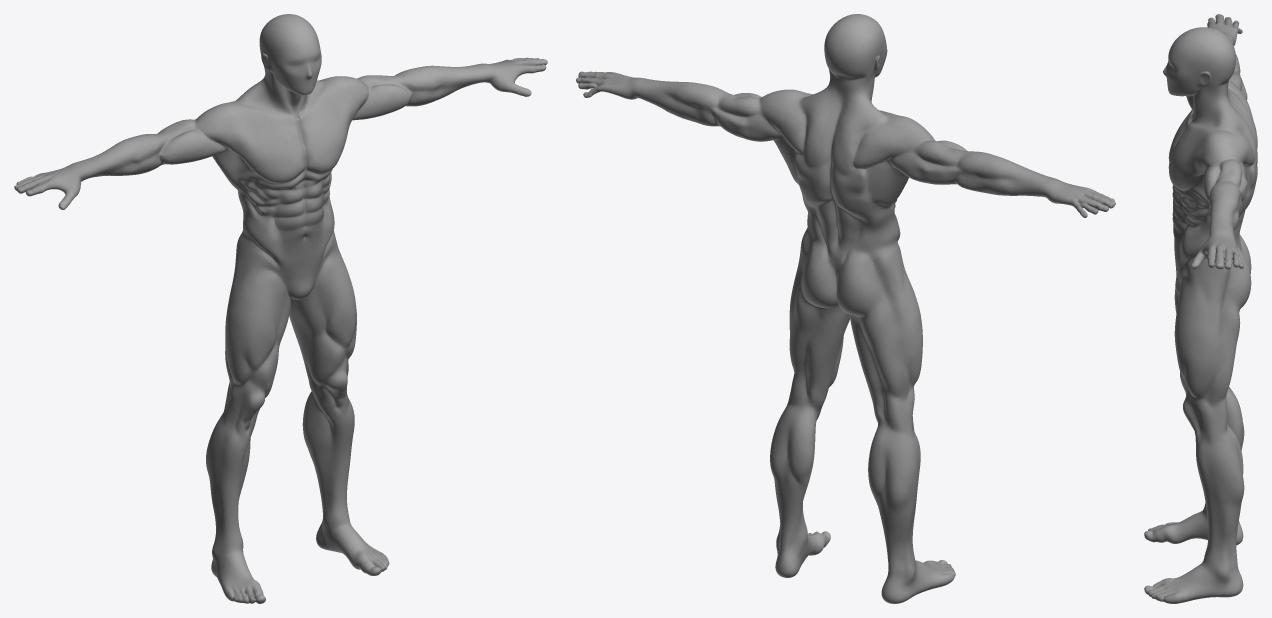
Rendered from sample_2026-11-19T201911.614.glb.
3 views of the same model, side by side, from view 1: azimuth 30°, elevation 25°; view 2: azimuth 150°, elevation 25°; view 3: azimuth 270°, elevation 25° (orthographic). The views are drawn at different scales.
Parts seen in each view (by area): view 1: world; view 2: world; view 3: world.
Part boxes in pixels (left/top/right/bottom): world: left=14, top=14, right=547, bottom=603; world: left=576, top=14, right=1115, bottom=603; world: left=1144, top=14, right=1257, bottom=603.
Size of the model in its own units: 1 by 1 by 0.1907.
Materials: 1 (1 with a texture image).
